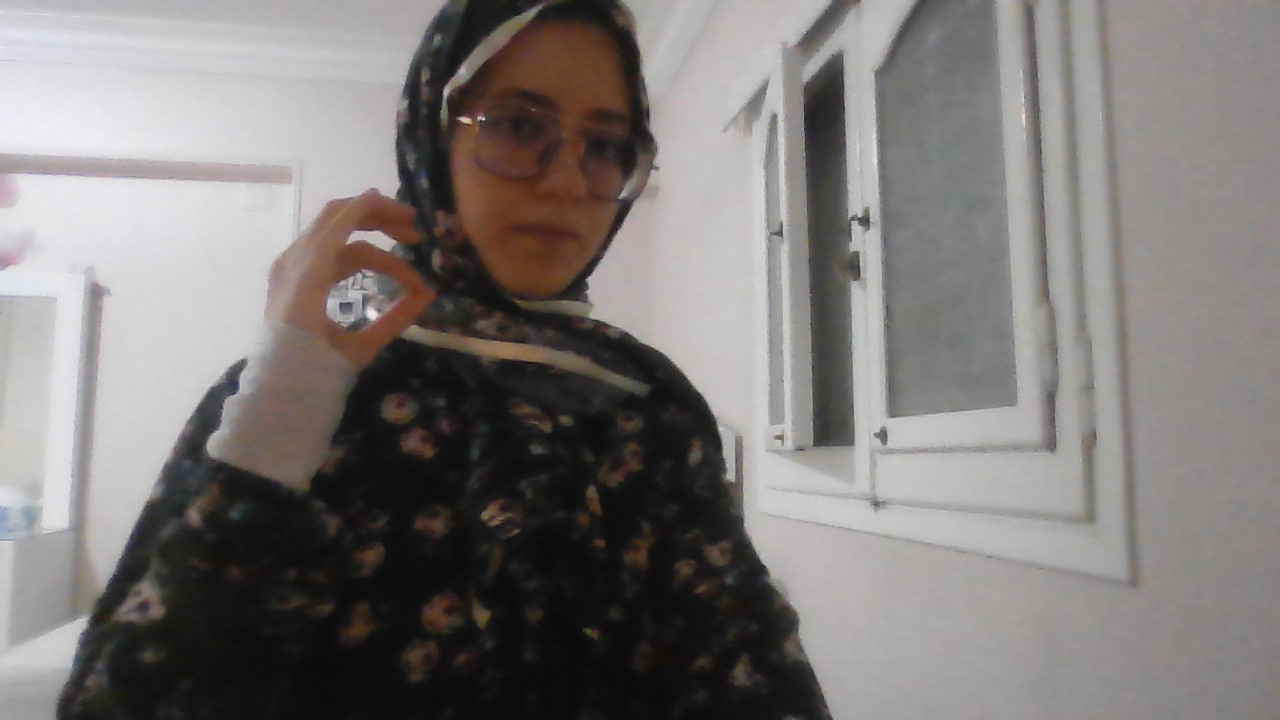okay: (253, 184, 437, 419)
